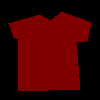abbigliamento_uomo: (8, 11, 91, 91)
